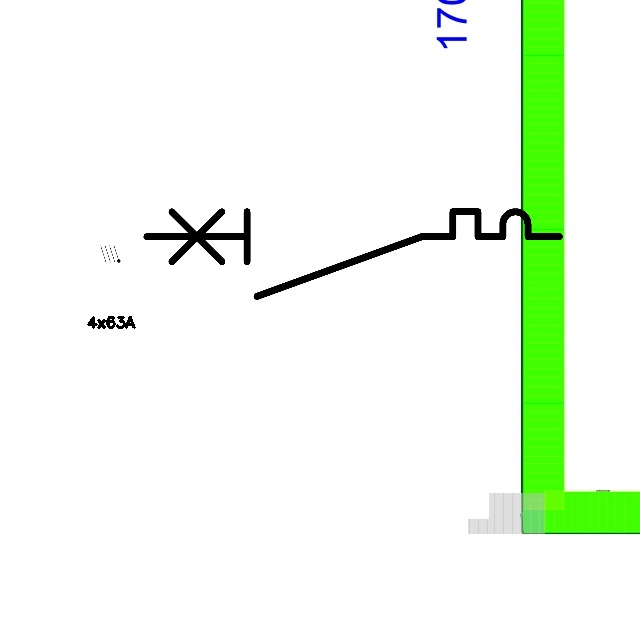interruptor_termomagnetico: (136, 201, 570, 307)
